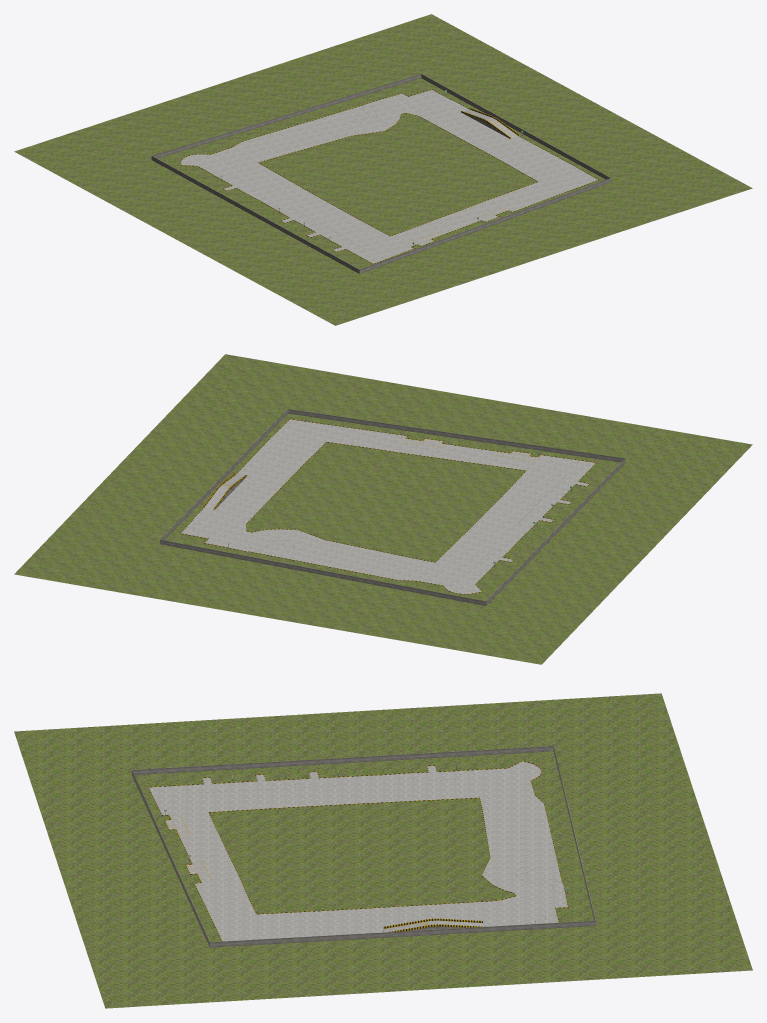
The model's file is 大荔金龙科二（m).FBX.
3 views of the same model, one above another, from view 1: azimuth 30°, elevation 25°; view 2: azimuth 150°, elevation 25°; view 3: azimuth 270°, elevation 25° (orthographic). The views are drawn at different scales.
Visible parts, largest first — view 1: 图形007, 图形004, 图形006, Rectangle240, Rectangle239, Rectangle234, Rectangle236; view 2: 图形007, 图形004, 图形006, Rectangle240, Rectangle239, Rectangle234, Rectangle236; view 3: 图形007, 图形004, 图形006, Rectangle240, Rectangle239, Rectangle234, Rectangle236.
Boxes of the visible parts, box(x1,y1,x2,y2) form: 图形007: box(14, 14, 752, 325); 图形004: box(181, 89, 597, 263); 图形006: box(259, 113, 536, 235); Rectangle240: box(151, 73, 611, 273); Rectangle239: box(180, 89, 598, 263); Rectangle234: box(258, 112, 537, 236); Rectangle236: box(461, 108, 519, 138); 图形007: box(14, 354, 752, 664); 图形004: box(181, 419, 595, 593); 图形006: box(246, 442, 525, 561); Rectangle240: box(160, 409, 625, 605); Rectangle239: box(180, 419, 596, 594); Rectangle234: box(245, 442, 526, 562); Rectangle236: box(203, 473, 247, 509); 图形007: box(14, 693, 752, 1008); 图形004: box(149, 761, 567, 941); 图形006: box(209, 798, 515, 913); Rectangle240: box(131, 746, 595, 947); Rectangle239: box(148, 760, 568, 941); Rectangle234: box(208, 797, 516, 914); Rectangle236: box(383, 918, 484, 932).
Bounding box in the file's own units: 264 × 3.69 × 262.
Materials: 20 (17 with a texture image).
